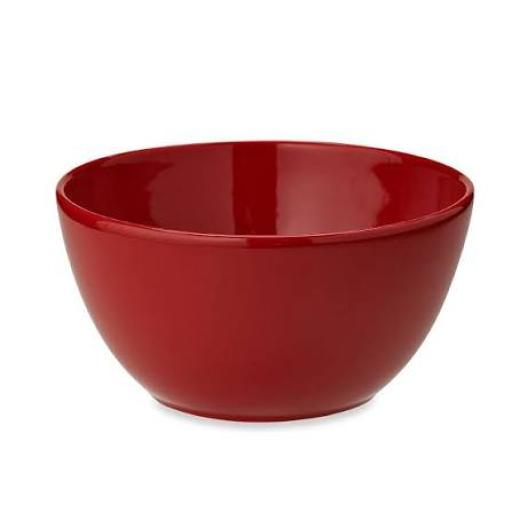Bowl: (57, 141, 473, 420), (58, 141, 473, 420)
